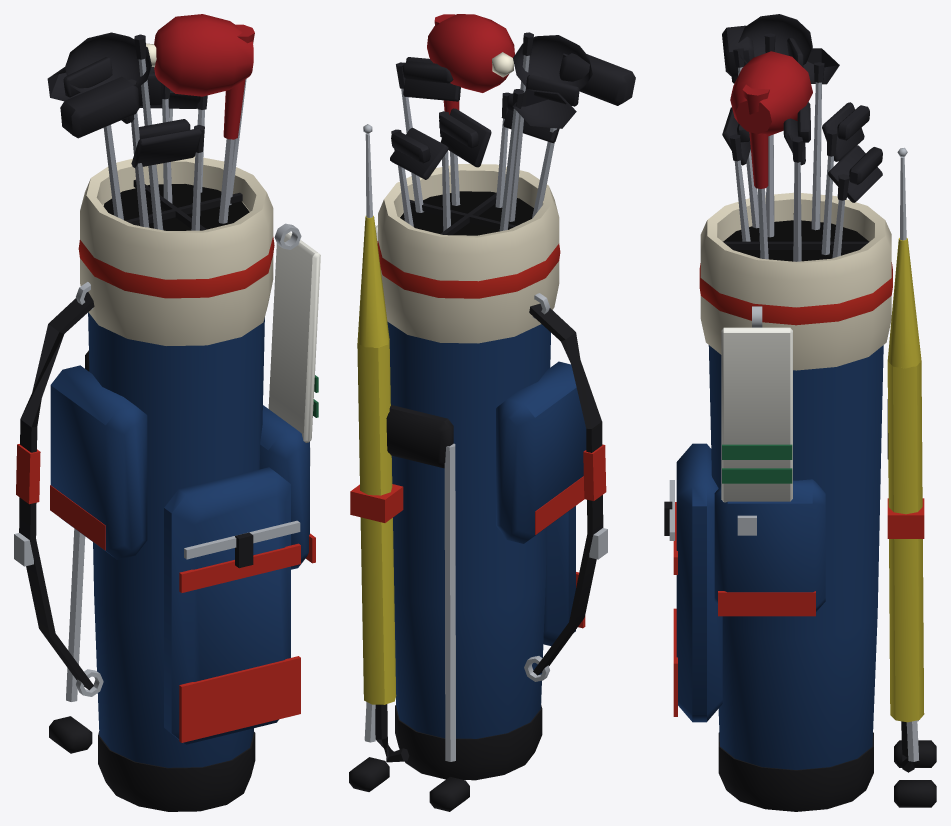
File: golf_bag.glb
The picture shows the model from 3 angles, left to right: view 1: azimuth 30°, elevation 25°; view 2: azimuth 150°, elevation 25°; view 3: azimuth 270°, elevation 25°; orthographic projection. The views are drawn at different scales.
Parts seen in each view (by area): view 1: golf_bag_mesh; view 2: golf_bag_mesh; view 3: golf_bag_mesh.
Boxes of the visible parts, <box> form: golf_bag_mesh: <box>14,14,320,811</box>; golf_bag_mesh: <box>349,14,635,811</box>; golf_bag_mesh: <box>664,14,936,811</box>.
Size of the model in its own units: 0.4296 by 1.23 by 0.417.
